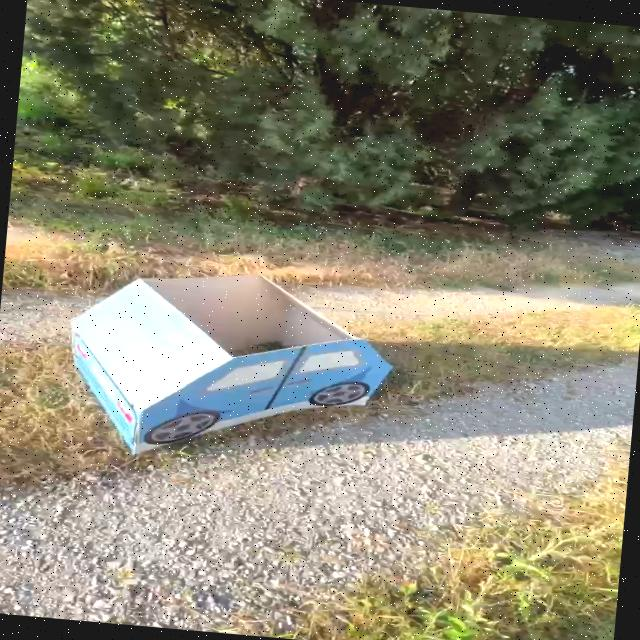blue_car: (0, 220, 487, 495)
